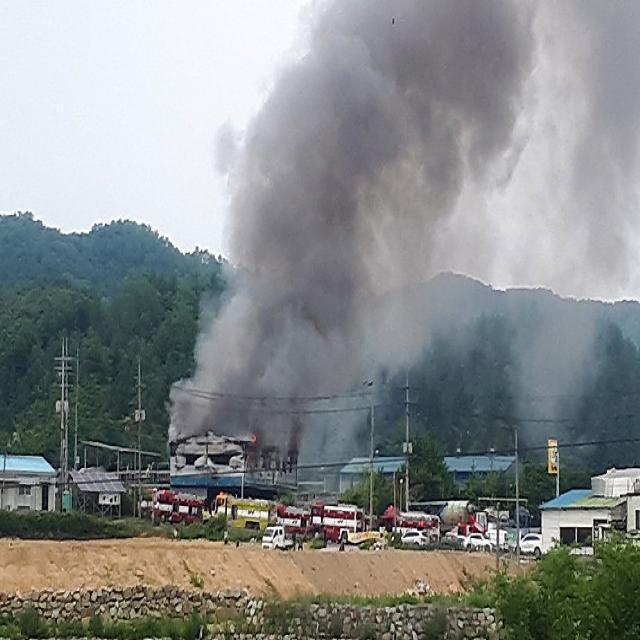Smoke: (168, 0, 640, 471)
